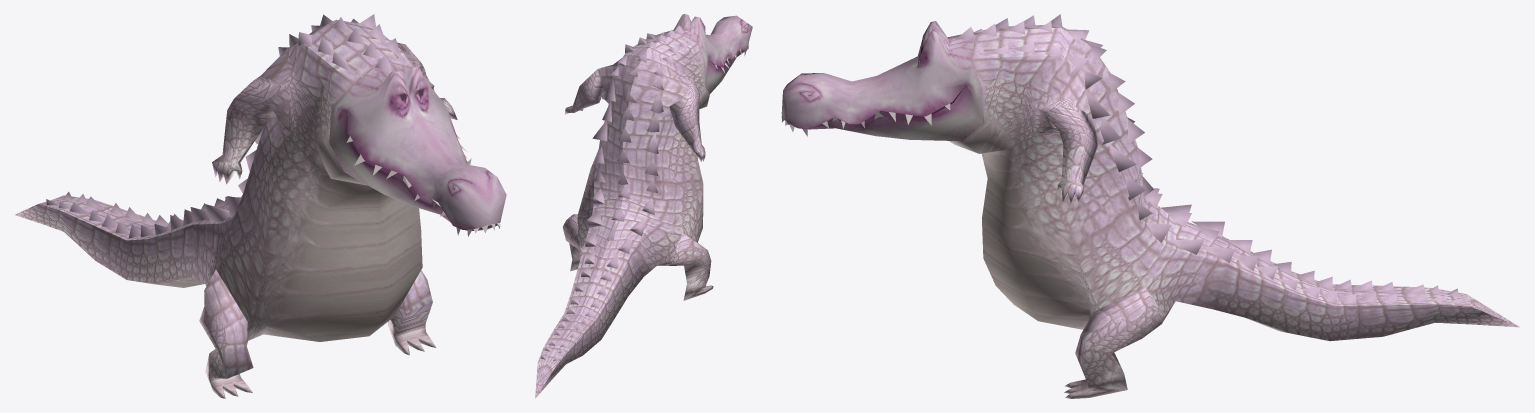
The model's file is morris.glb.
3 renders of one model, left to right at view 1: azimuth 30°, elevation 25°; view 2: azimuth 150°, elevation 25°; view 3: azimuth 270°, elevation 25°, orthographic. The views are drawn at different scales.
Parts seen in each view (by area): view 1: Node1; view 2: Node1; view 3: Node1.
Part boxes in pixels (box(x1,y1,x2,y2)): Node1: box(15, 14, 506, 398); Node1: box(535, 14, 752, 398); Node1: box(781, 14, 1519, 398).
Size of the model in its own units: 23.84 by 35.66 by 70.79.
2 materials, 2 textured.
